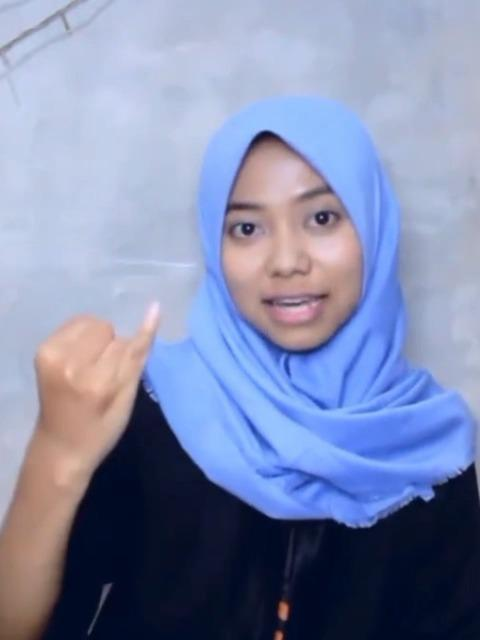J: (18, 298, 174, 454)
